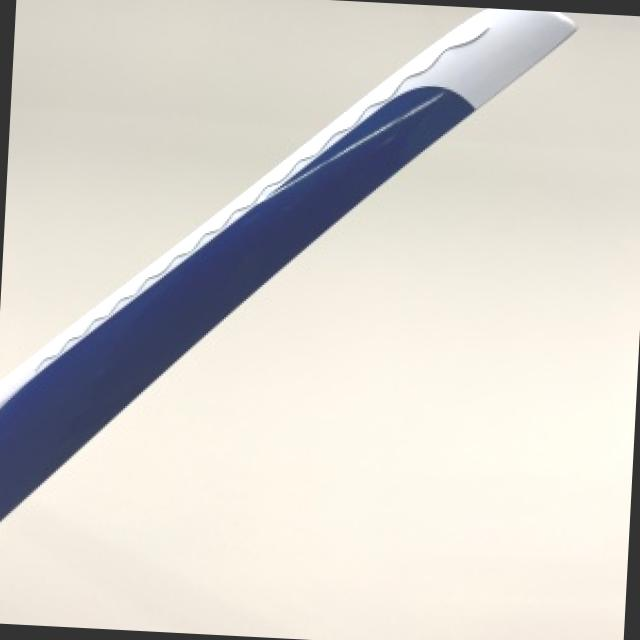healthy: (0, 8, 573, 517)
